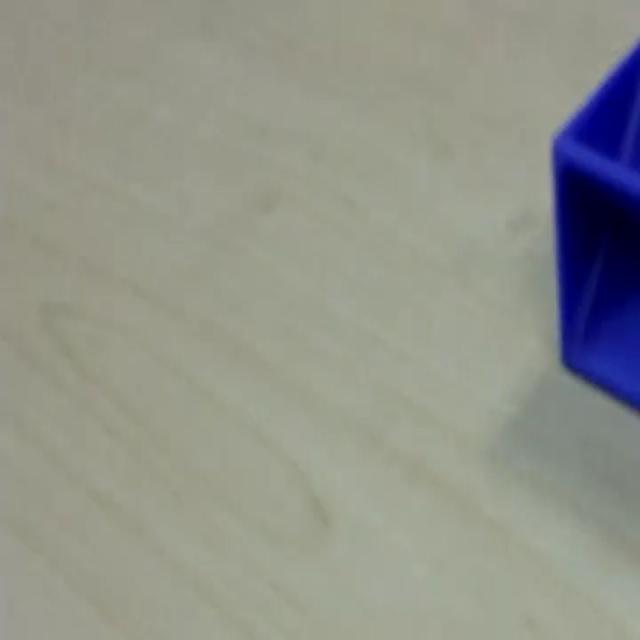blue_block: (550, 36, 638, 411)
